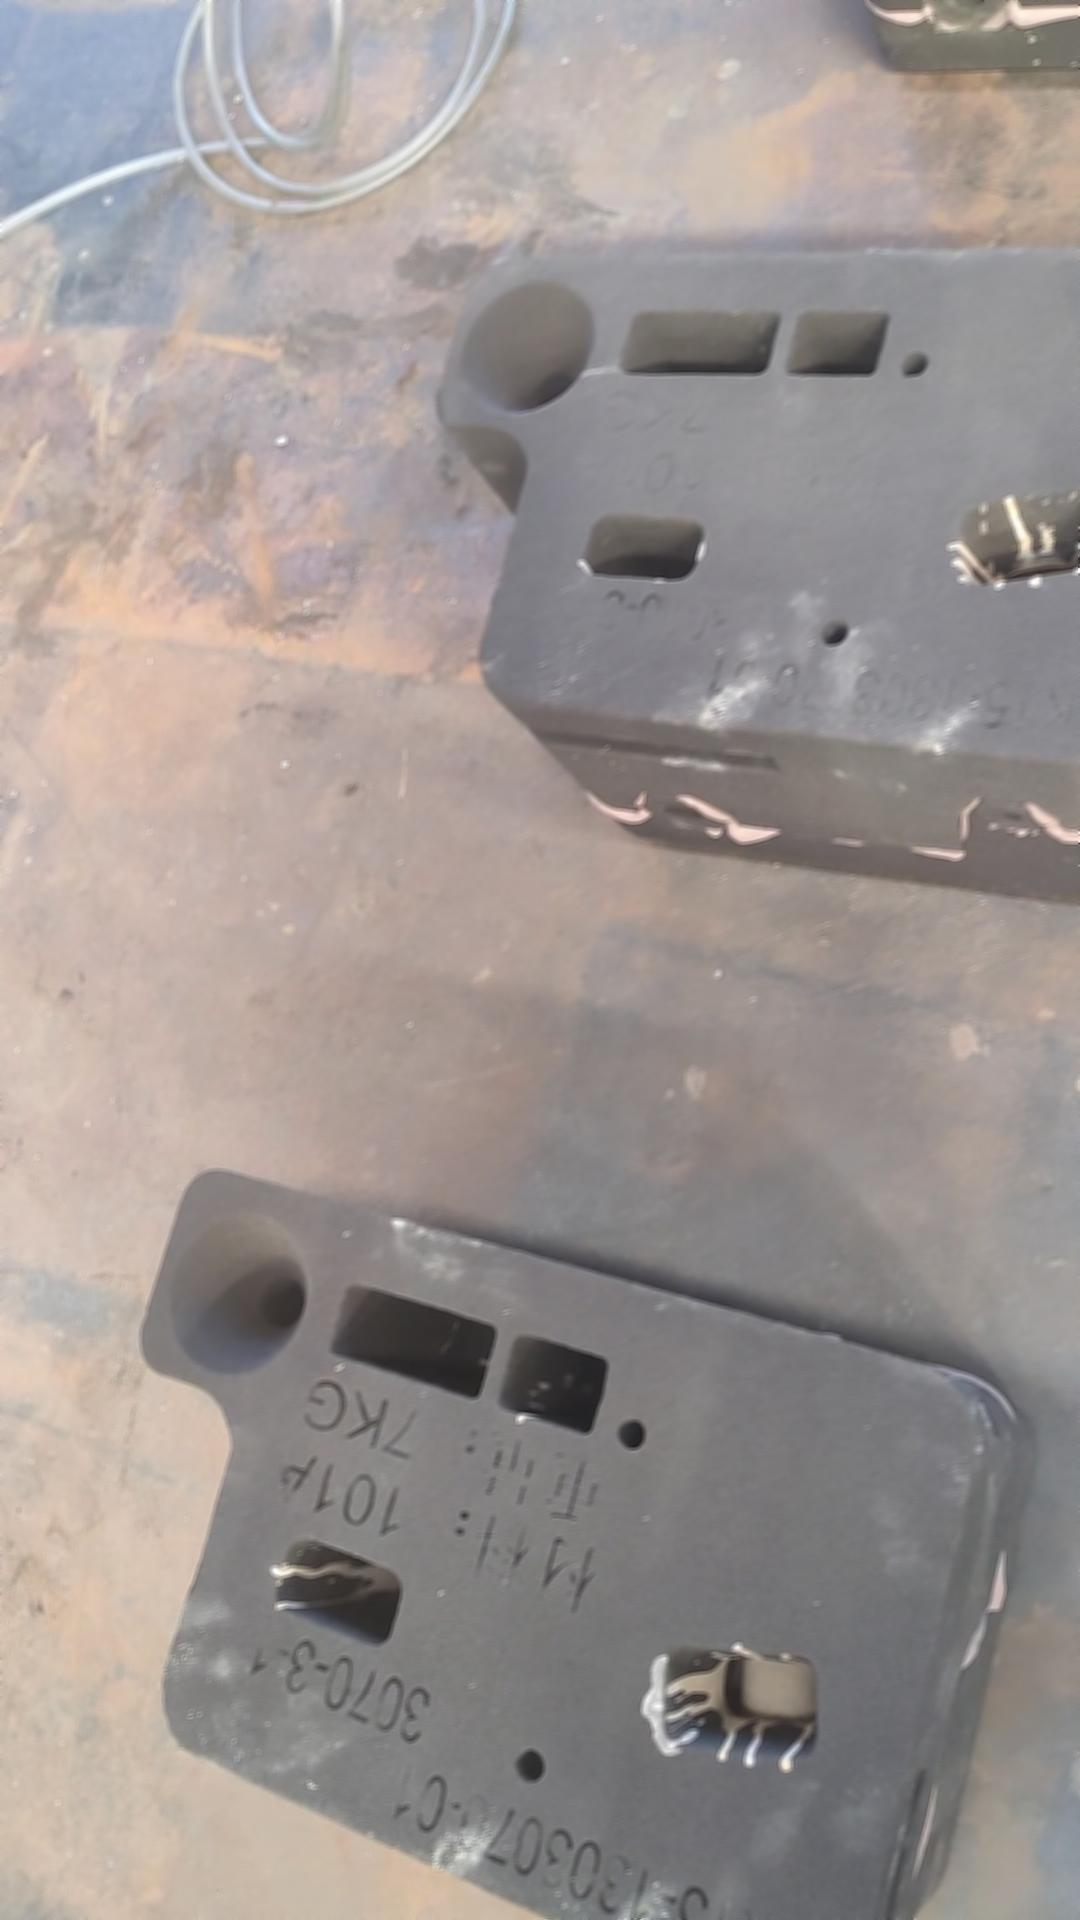pouring hole: (169, 1212, 309, 1375), (463, 280, 595, 413)
